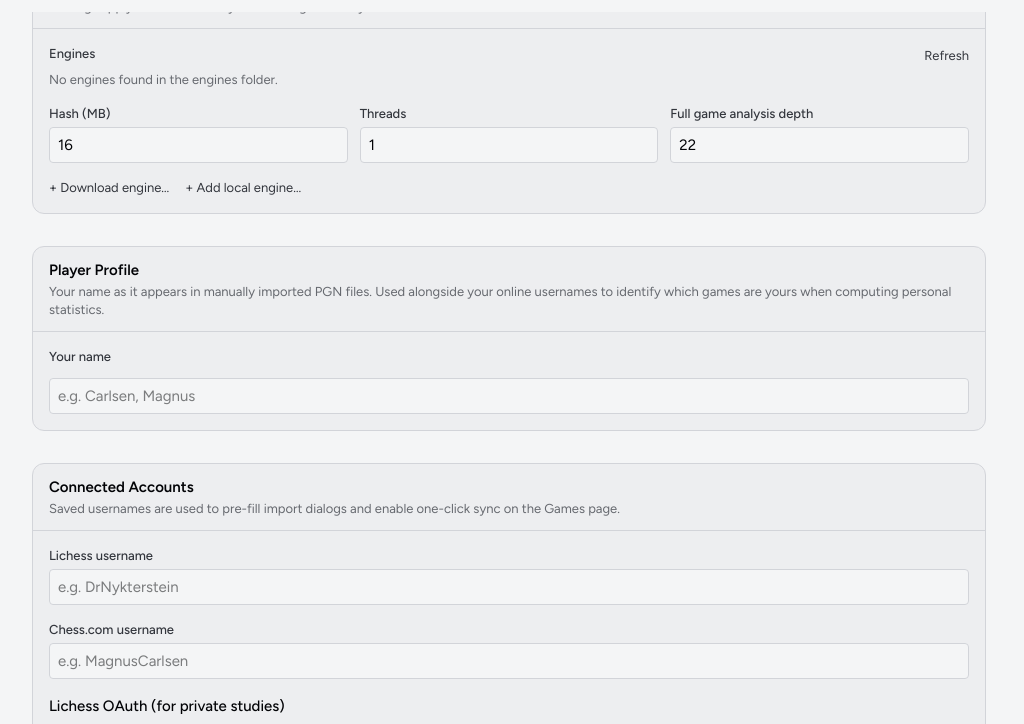
Test: SettingsPage › adds a second variant row when Add variant is clicked after filling the first
(page scrolled)
Type "Carlsen, Magnus" into the field named "Your name". click: coordinates (509, 396)
box: left=49, top=378, right=969, bottom=414
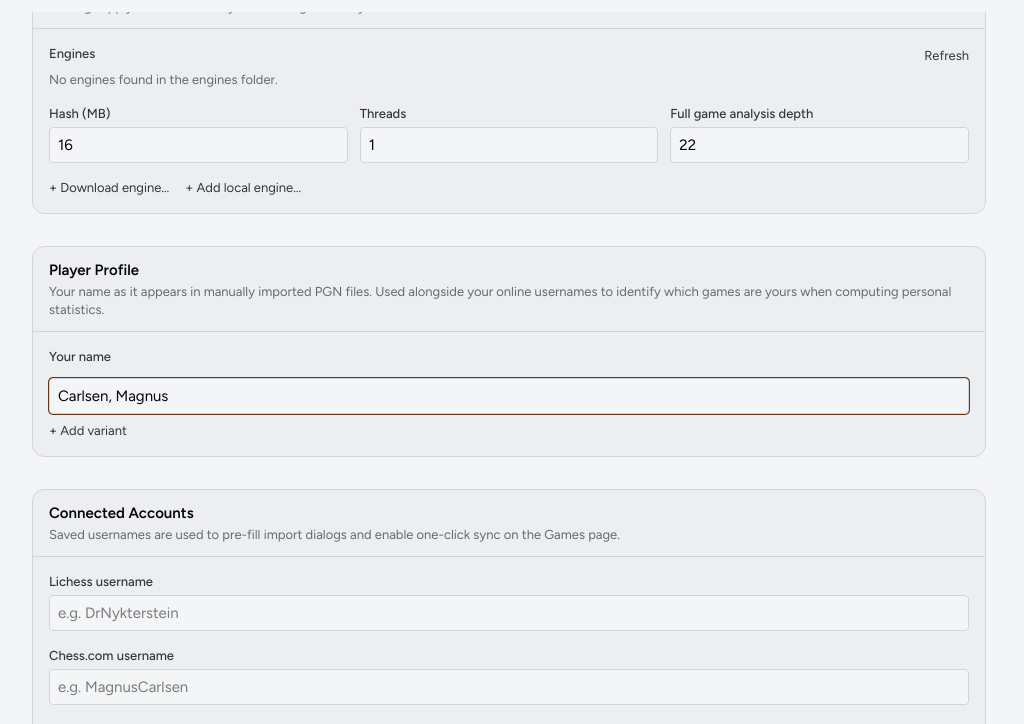
Click the button "+ Add variant". click: coordinates (88, 431)
box: left=49, top=422, right=127, bottom=440
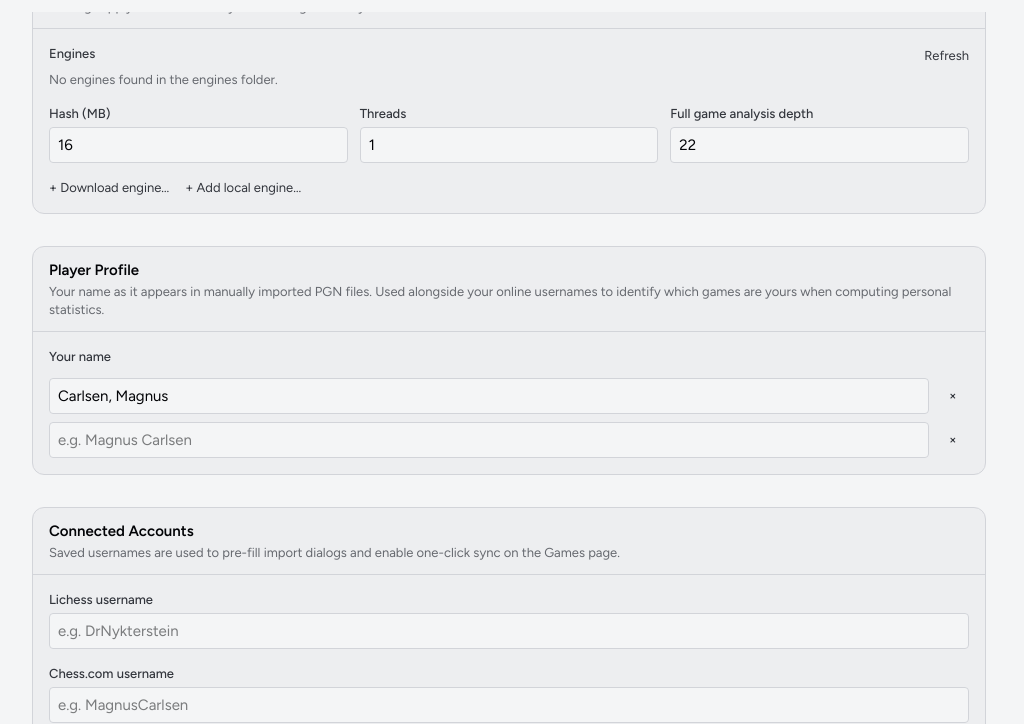
Check: the field named "Your name variant 2" is shown, box left=49, top=422, right=929, bottom=458
